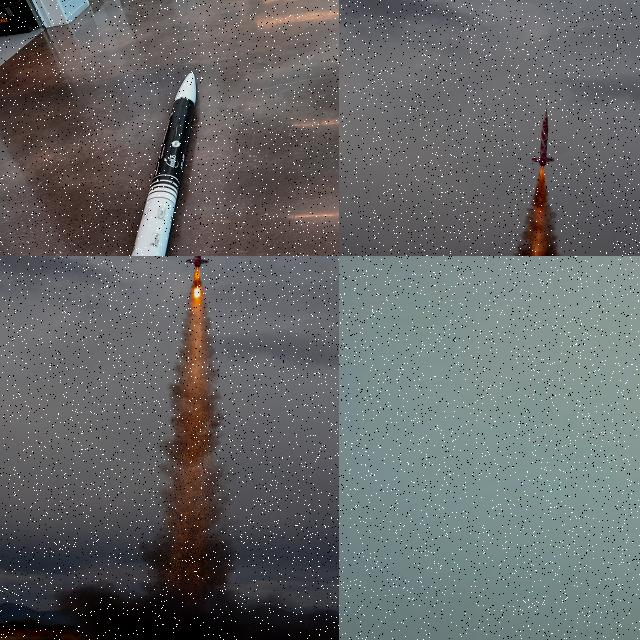Rocket: (130, 73, 197, 256), (531, 108, 555, 167), (187, 256, 209, 268)
